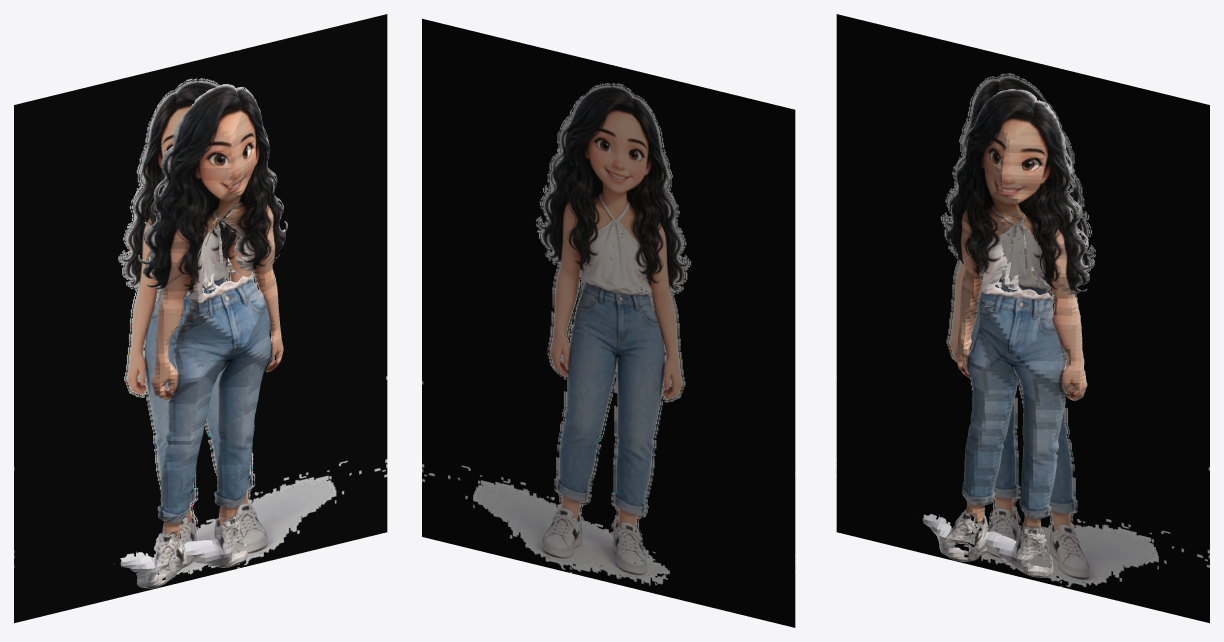
The model's file is WhatsApp_Image_2026-10-28_at_08_12_08.obj.
The picture shows the model from 3 angles, left to right: view 1: azimuth 30°, elevation 25°; view 2: azimuth 150°, elevation 25°; view 3: azimuth 330°, elevation 25°; orthographic projection.
Size of the model in its own units: 1.51 by 2 by 0.19.
2 materials, 2 textured.
